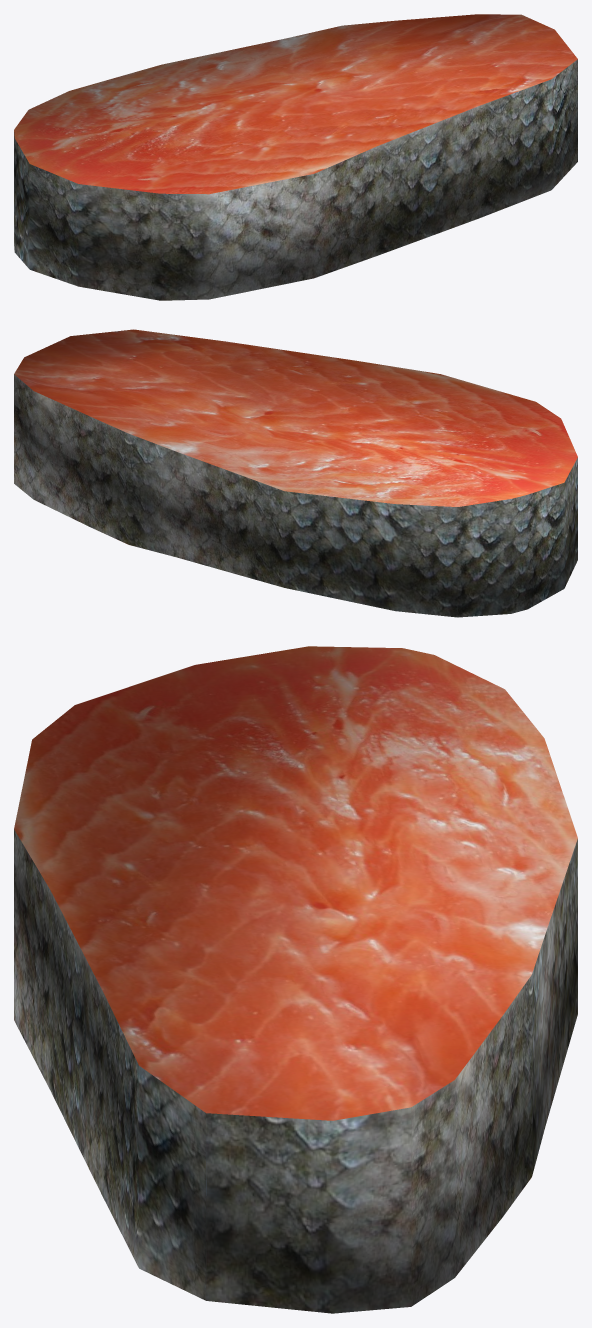
Rendered from salmon.glb.
The picture shows the model from 3 angles, top to bottom: view 1: azimuth 30°, elevation 25°; view 2: azimuth 150°, elevation 25°; view 3: azimuth 270°, elevation 25°; orthographic projection. The views are drawn at different scales.
Visible parts, largest first — view 1: Cube; view 2: Cube; view 3: Cube.
Part boxes in pixels (x1,y1,x2,y2): Cube: [14, 14, 577, 300]; Cube: [14, 329, 577, 617]; Cube: [14, 646, 577, 1313].
Size of the model in its own units: 2 by 0.4116 by 1.01.
1 material, 1 textured.
